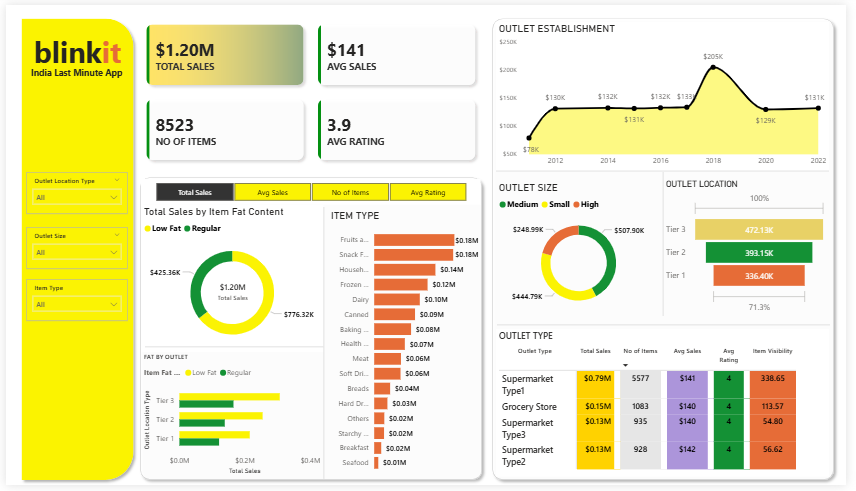

The page's visual inventory and layout, read from the dashboard file:
{"tool":"powerbi","page":{"name":"Page 1","canvas":[1400,800],"ordinal":0},"visuals":[{"type":"shape","box":[16,12.8,204.8,787.2],"z":0},{"type":"textbox","box":[28.8,40,177.6,91.2],"z":1000},{"type":"textbox","box":[36.8,96,177.6,35.2],"z":2000},{"type":"cardVisual","fields":{"Data":["BlinkIT Grocery Data.Total Sales","BlinkIT Grocery Data.Avg Sales","BlinkIT Grocery Data.No of Items","BlinkIT Grocery Data.Avg Rating"]},"box":[214.4,12.8,587.2,265.6],"z":3000},{"type":"shape","box":[214.4,278.4,587.2,521.6],"z":4000},{"type":"donutChart","fields":{"Y":["BlinkIT Grocery Data.Total Sales"],"Category":["BlinkIT Grocery Data.Item Fat Content"]},"box":[225.6,332.8,304,244.8],"z":5000},{"type":"slicer","fields":{"Values":["Metrics.Metrics"]},"box":[225.6,289.6,566.4,43.2],"z":6000},{"type":"cardVisual","fields":{"Data":["BlinkIT Grocery Data.Total Sales"]},"box":[334.4,443.2,86.4,70.4],"z":7000},{"type":"clusteredBarChart","title":"FAT BY OUTLET","fields":{"Y":["BlinkIT Grocery Data.Total Sales"],"Category":["BlinkIT Grocery Data.Outlet Location Type"],"Series":["BlinkIT Grocery Data.Item Fat Content"]},"box":[225.6,577.6,304,208],"z":8000},{"type":"shape","box":[232,561.6,297.6,16],"z":9000},{"type":"shape","box":[523.2,336,12.8,452.8],"z":10000},{"type":"barChart","title":"ITEM TYPE","fields":{"Y":["BlinkIT Grocery Data.Total Sales"],"Category":["BlinkIT Grocery Data.Item Type"]},"box":[536,340.8,256,448],"z":11000},{"type":"shape","box":[801.6,12.8,587.2,787.2],"z":12000},{"type":"lineChart","title":"OUTLET ESTABLISHMENT","fields":{"Category":["BlinkIT Grocery Data.Outlet Establishment Year"],"Y":["BlinkIT Grocery Data.Total Sales"]},"box":[816,28.8,555.2,249.6],"z":13000},{"type":"shape","box":[816,260.8,555.2,33.6],"z":14000},{"type":"donutChart","title":"OUTLET SIZE","fields":{"Y":["BlinkIT Grocery Data.Total Sales"],"Category":["BlinkIT Grocery Data.Outlet Size"]},"box":[816,292.8,275.2,225.6],"z":15000},{"type":"shape","box":[1081.6,278.4,27.2,240],"z":16000},{"type":"funnel","title":"OUTLET LOCATION","fields":{"Y":["Sum(BlinkIT Grocery Data.Sales)"],"Category":["BlinkIT Grocery Data.Outlet Location Type"]},"box":[1094.4,289.6,276.8,228.8],"z":17000},{"type":"pivotTable","title":"OUTLET TYPE","fields":{"Rows":["BlinkIT Grocery Data.Outlet Type"],"Values":["BlinkIT Grocery Data.Total Sales","BlinkIT Grocery Data.No of Items","BlinkIT Grocery Data.Avg Sales","BlinkIT Grocery Data.Avg Rating","Sum(BlinkIT Grocery Data.Item Visibility)"]},"box":[816,539.2,555.2,246.4],"z":18000},{"type":"shape","box":[817.6,526.4,555.2,12.8],"z":19000},{"type":"slicer","fields":{"Values":["BlinkIT Grocery Data.Outlet Location Type"]},"box":[33.6,278.4,169.6,70.4],"z":20000},{"type":"slicer","fields":{"Values":["BlinkIT Grocery Data.Outlet Size"]},"box":[33.6,369.6,169.6,70.4],"z":21000},{"type":"slicer","fields":{"Values":["BlinkIT Grocery Data.Item Type"]},"box":[33.6,456,169.6,70.4],"z":22000}]}

Visuals, with their boxes in screenshot pixels (x1, y1, x2, y2), scaled from the page's 1400x800 canvas onto the 856x491 screenshot:
shape: bbox=(10, 8, 135, 490)
textbox: bbox=(18, 25, 126, 81)
textbox: bbox=(23, 59, 131, 81)
cardVisual - BlinkIT Grocery Data.Total Sales x BlinkIT Grocery Data.Avg Sales: bbox=(131, 8, 490, 171)
shape: bbox=(131, 171, 490, 490)
donutChart - BlinkIT Grocery Data.Total Sales x BlinkIT Grocery Data.Item Fat Content: bbox=(138, 204, 324, 355)
slicer - Metrics.Metrics: bbox=(138, 178, 484, 204)
cardVisual - BlinkIT Grocery Data.Total Sales: bbox=(204, 272, 257, 315)
"FAT BY OUTLET" clusteredBarChart: bbox=(138, 355, 324, 482)
shape: bbox=(142, 345, 324, 355)
shape: bbox=(320, 206, 328, 484)
"ITEM TYPE" barChart: bbox=(328, 209, 484, 484)
shape: bbox=(490, 8, 849, 490)
"OUTLET ESTABLISHMENT" lineChart: bbox=(499, 18, 838, 171)
shape: bbox=(499, 160, 838, 181)
"OUTLET SIZE" donutChart: bbox=(499, 180, 667, 318)
shape: bbox=(661, 171, 678, 318)
"OUTLET LOCATION" funnel: bbox=(669, 178, 838, 318)
"OUTLET TYPE" pivotTable: bbox=(499, 331, 838, 482)
shape: bbox=(500, 323, 839, 331)
slicer - BlinkIT Grocery Data.Outlet Location Type: bbox=(21, 171, 124, 214)
slicer - BlinkIT Grocery Data.Outlet Size: bbox=(21, 227, 124, 270)
slicer - BlinkIT Grocery Data.Item Type: bbox=(21, 280, 124, 323)
